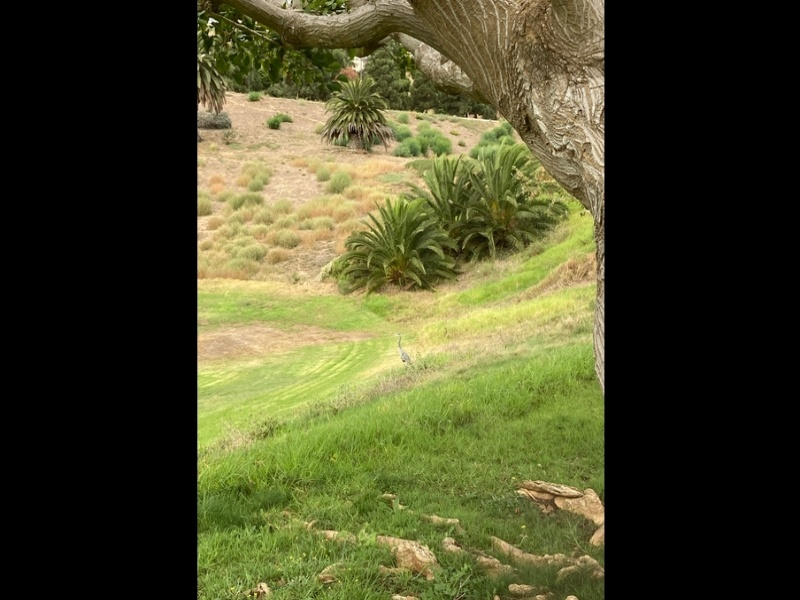heron: (395, 335, 415, 372)
